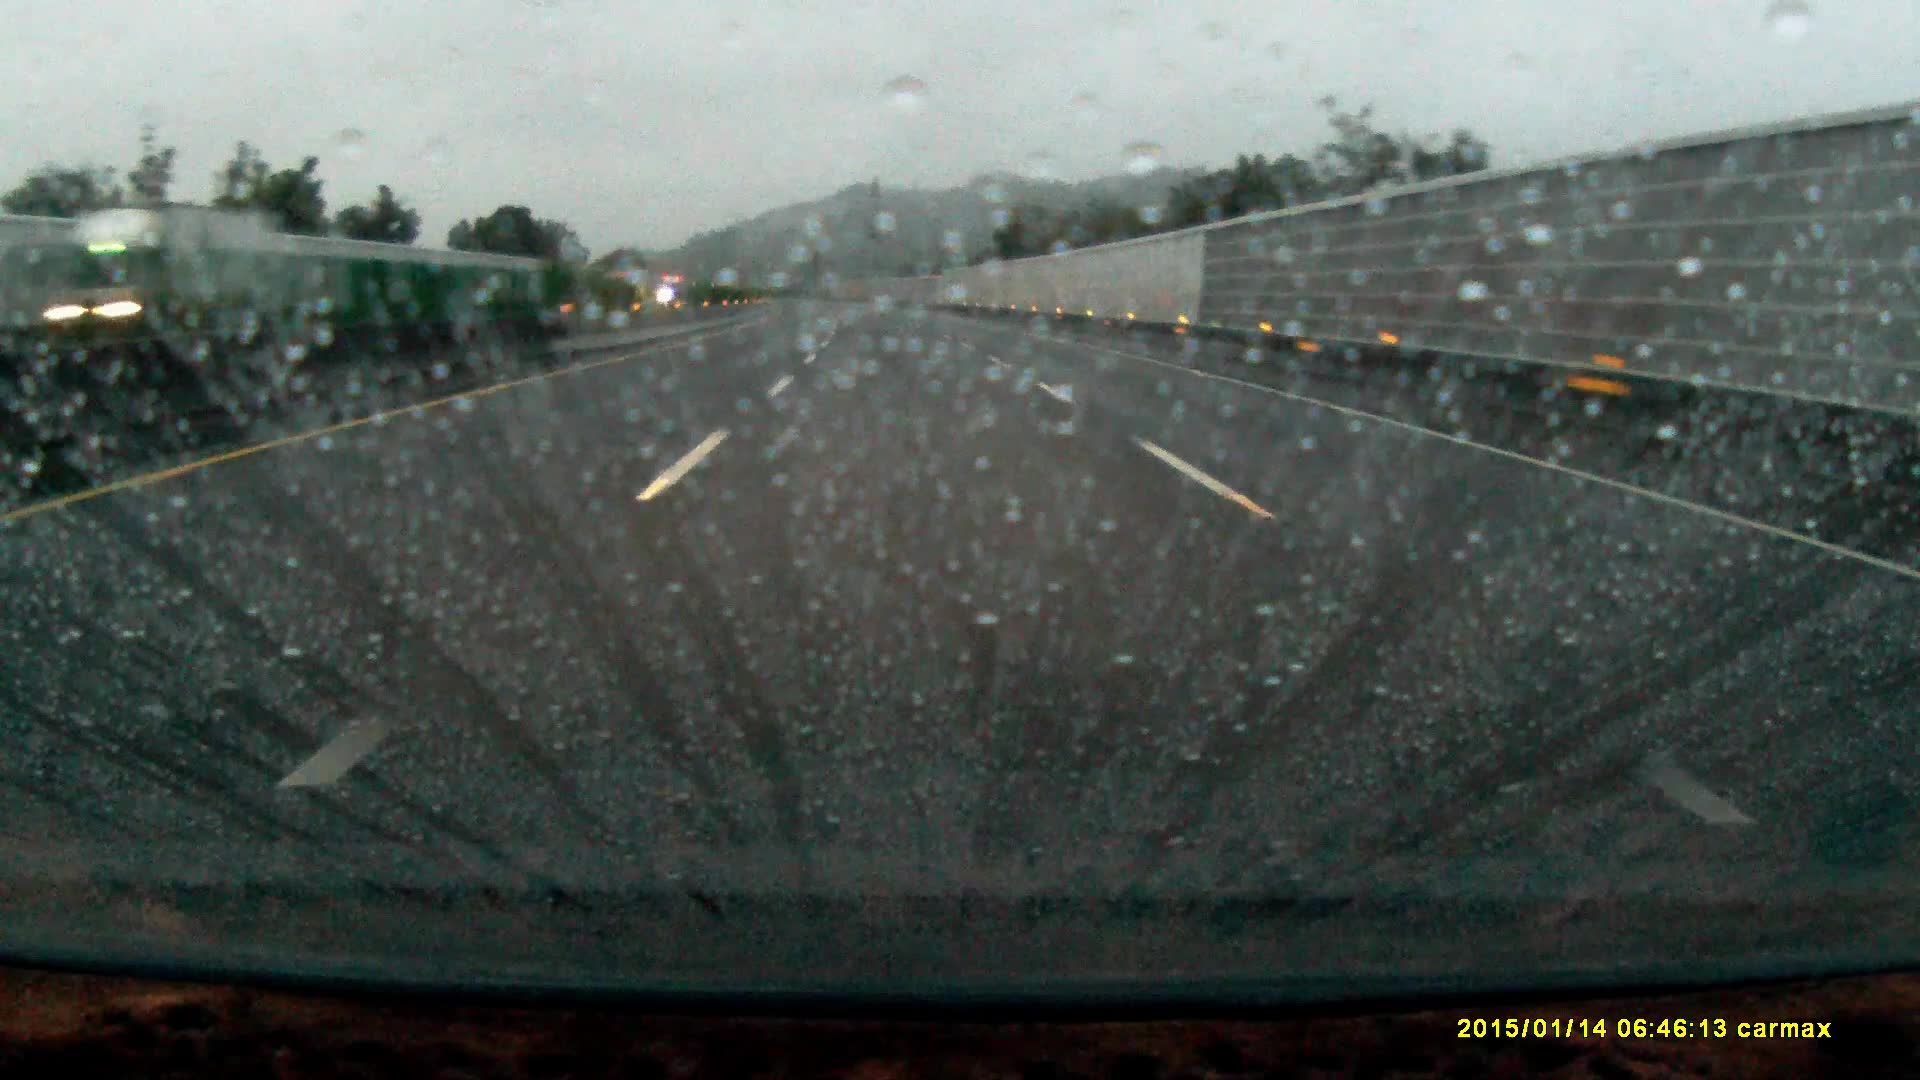vehicle: (36, 203, 284, 353)
